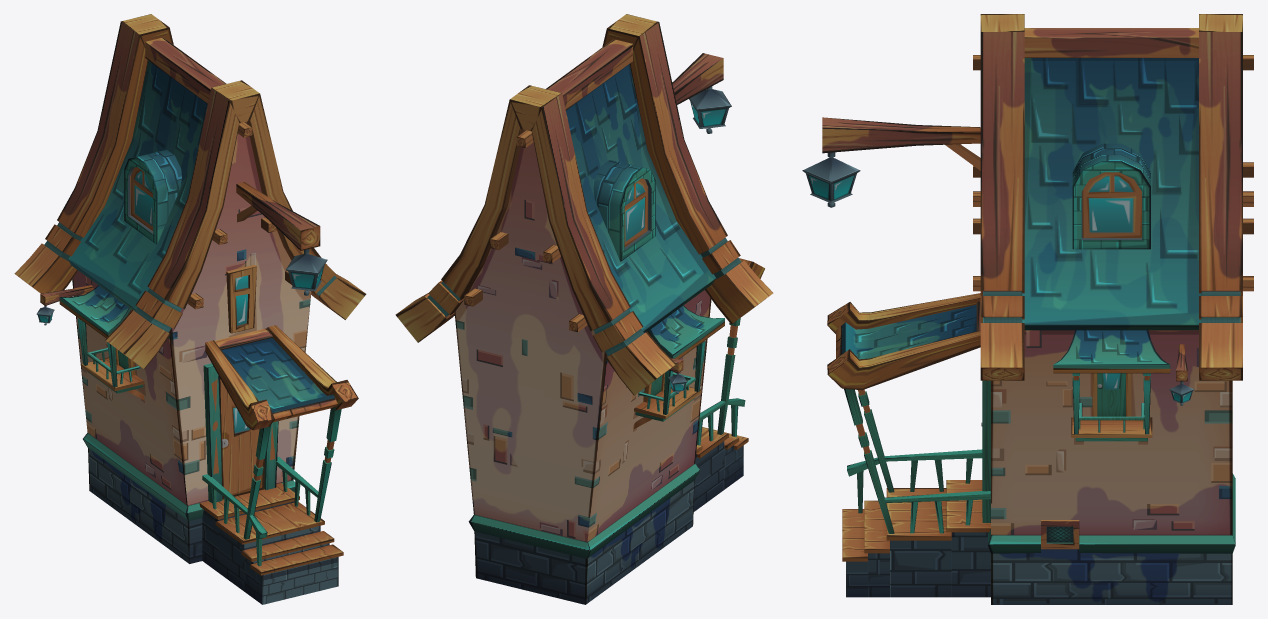
Rendered from House_Blue.fbx.
3 views of the same model, side by side, from view 1: azimuth 30°, elevation 25°; view 2: azimuth 150°, elevation 25°; view 3: azimuth 270°, elevation 25° (orthographic). The views are drawn at different scales.
Visible parts, largest first — view 1: House_Blue, HB_Door; view 2: House_Blue; view 3: House_Blue.
Part boxes in pixels (left/top/right/bottom): House_Blue: left=14, top=14, right=366, bottom=604; HB_Door: left=219, top=378, right=264, bottom=499; House_Blue: left=395, top=14, right=773, bottom=604; House_Blue: left=802, top=14, right=1253, bottom=604.
Bounding box in the file's own units: 2.5 × 4.37 × 3.24.
